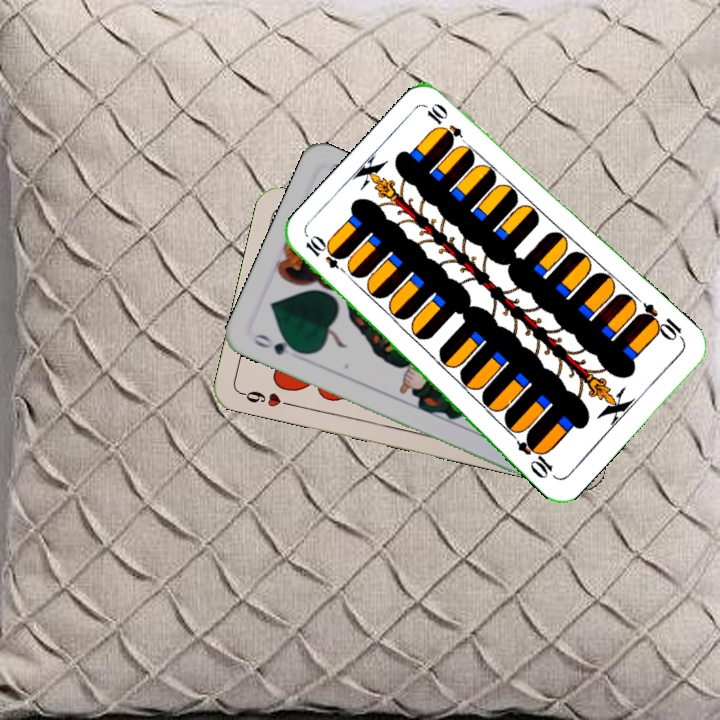E10: (301, 232, 353, 279), (634, 299, 687, 344)
GO: (249, 329, 306, 358)
H9: (237, 386, 296, 410)
